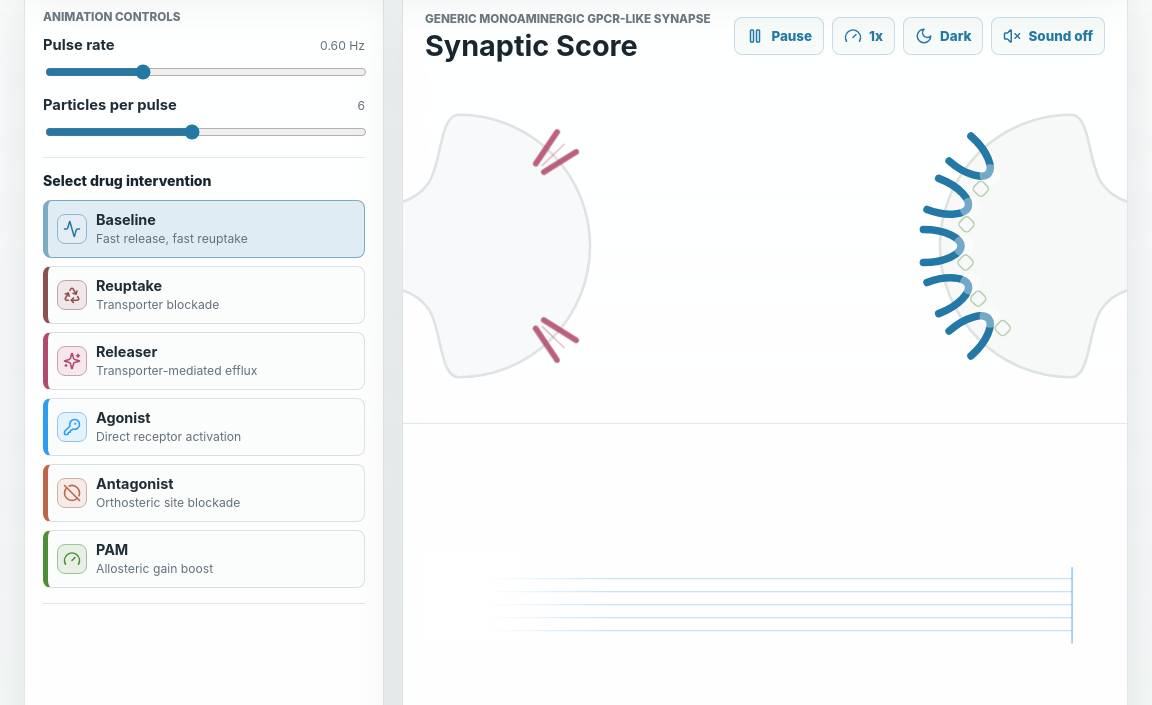
Scenario: App › shows releaser as grounded transporter-mediated efflux
This screenshot has width=1152, height=705.
(page scrolled)
Click the radio button labelled "Releaser Transporter-mediated efflux". click: (204, 361)
box: 43,332 -> 365,390
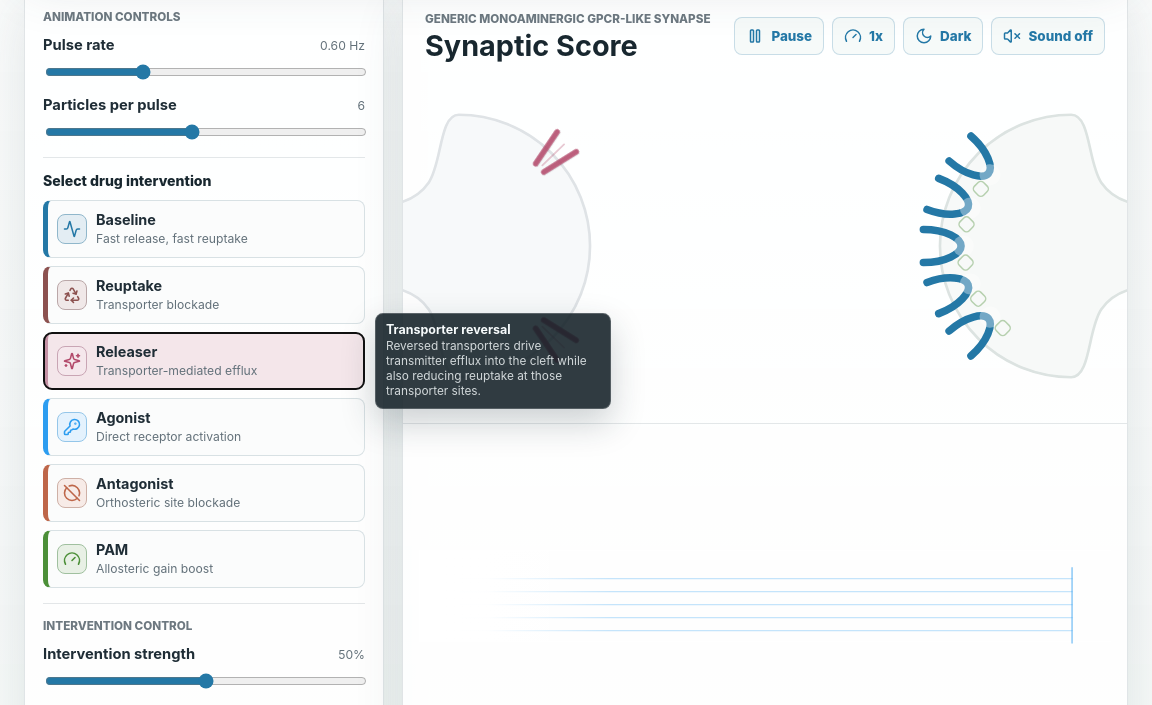
Now the slider labelled "Intervention strength 50%" is shown, box 45,673 -> 367,689
